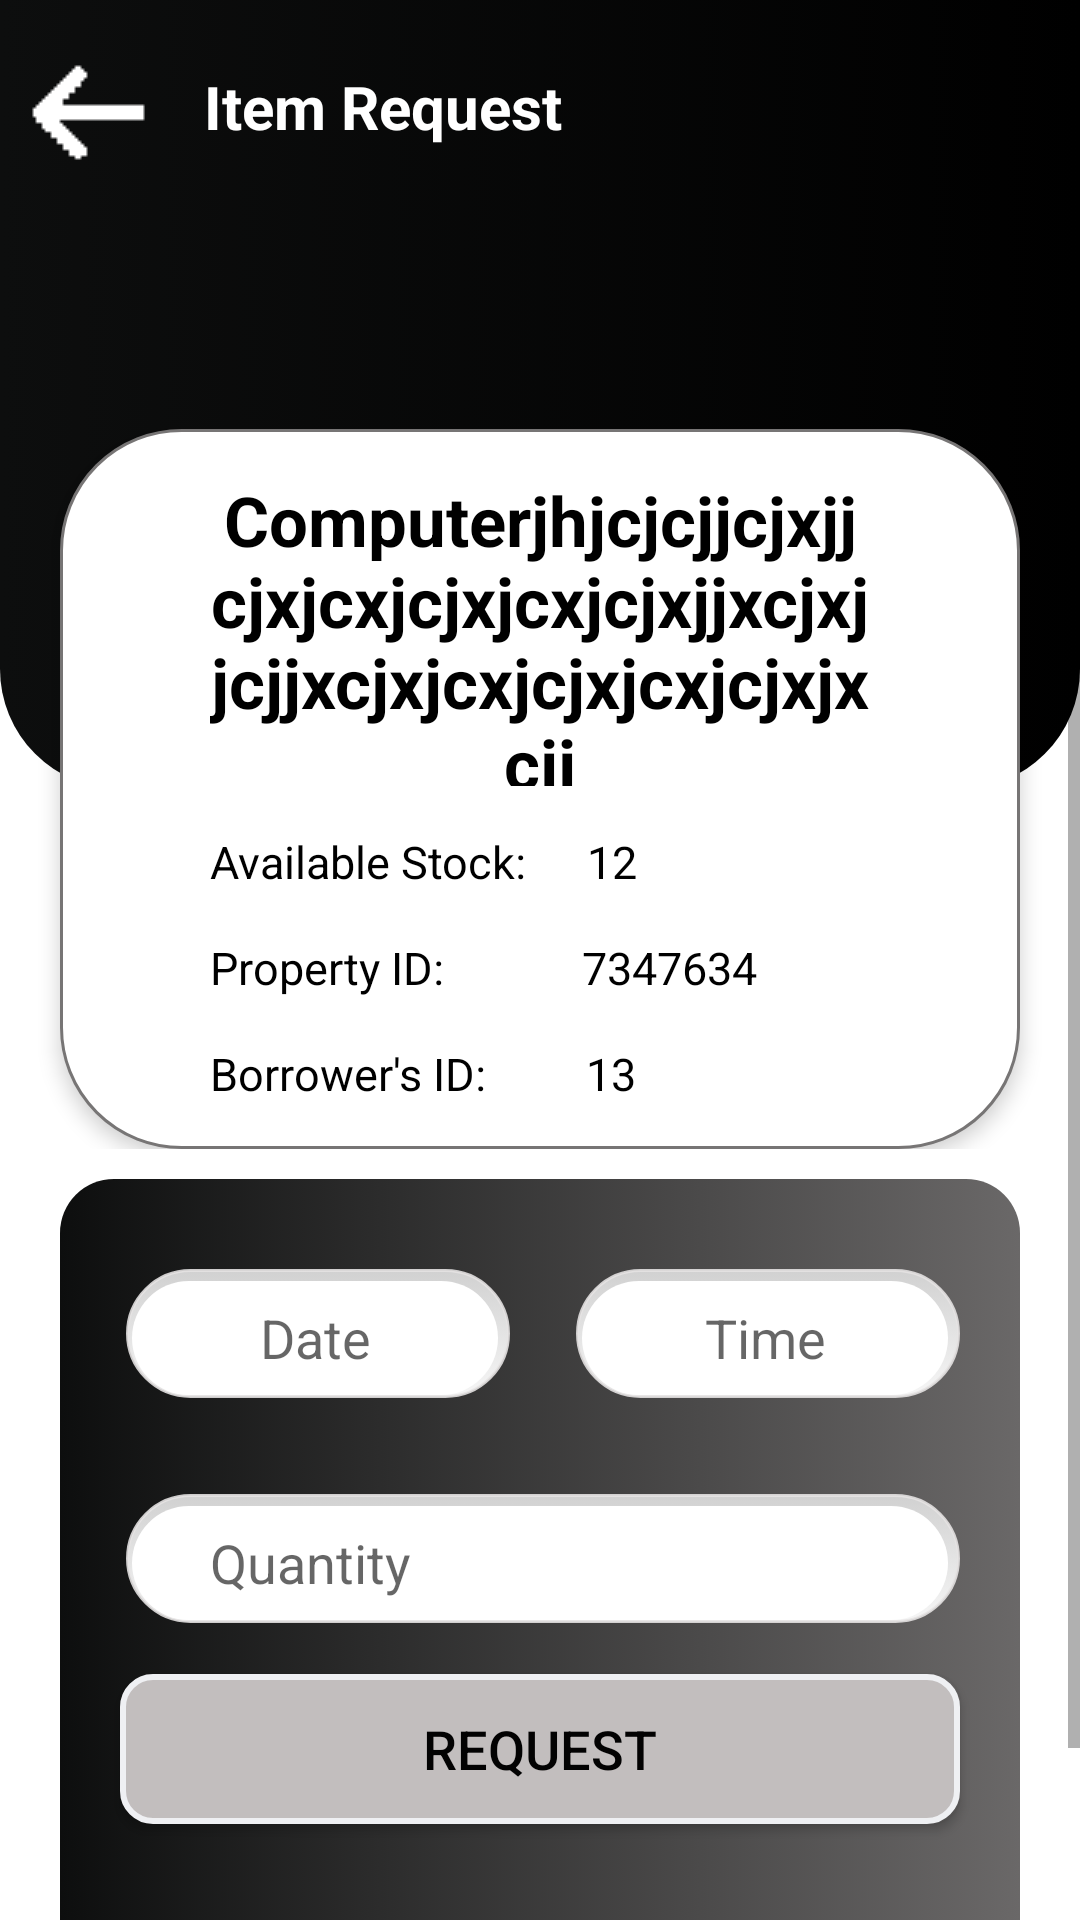

Point at icon controls on the screen. Image size 1080×1920, points as [x,y].
arroww: [88,112]
